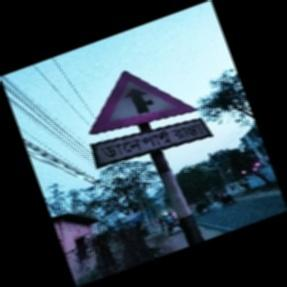Side-road-right: (88, 72, 210, 169)
